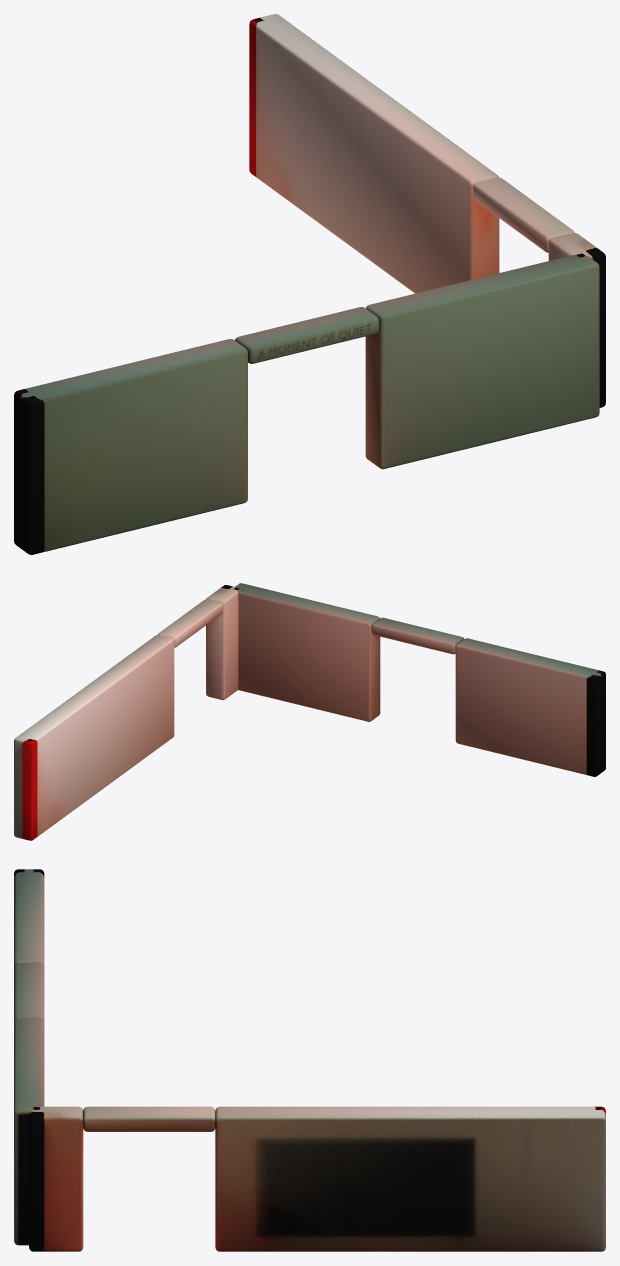
The model's file is v06-door-walls.glb.
The picture shows the model from 3 angles, top to bottom: view 1: azimuth 30°, elevation 25°; view 2: azimuth 150°, elevation 25°; view 3: azimuth 270°, elevation 25°; orthographic projection. The views are drawn at different scales.
Visible parts, largest first — view 1: Prayer_Back_Wall, Shared_Sauna_Sports_Wall; view 2: Prayer_Back_Wall, Shared_Sauna_Sports_Wall; view 3: Shared_Sauna_Sports_Wall, Prayer_Back_Wall.
Part boxes in pixels (bbox=[...]): Prayer_Back_Wall: bbox=[14, 253, 599, 554]; Shared_Sauna_Sports_Wall: bbox=[249, 14, 605, 407]; Prayer_Back_Wall: bbox=[234, 583, 605, 776]; Shared_Sauna_Sports_Wall: bbox=[14, 585, 239, 840]; Shared_Sauna_Sports_Wall: bbox=[29, 1106, 605, 1251]; Prayer_Back_Wall: bbox=[14, 869, 44, 1245].
Bounding box in the file's own units: 24.63 × 6.2 × 24.63.
Materials: 1 (1 with a texture image).
